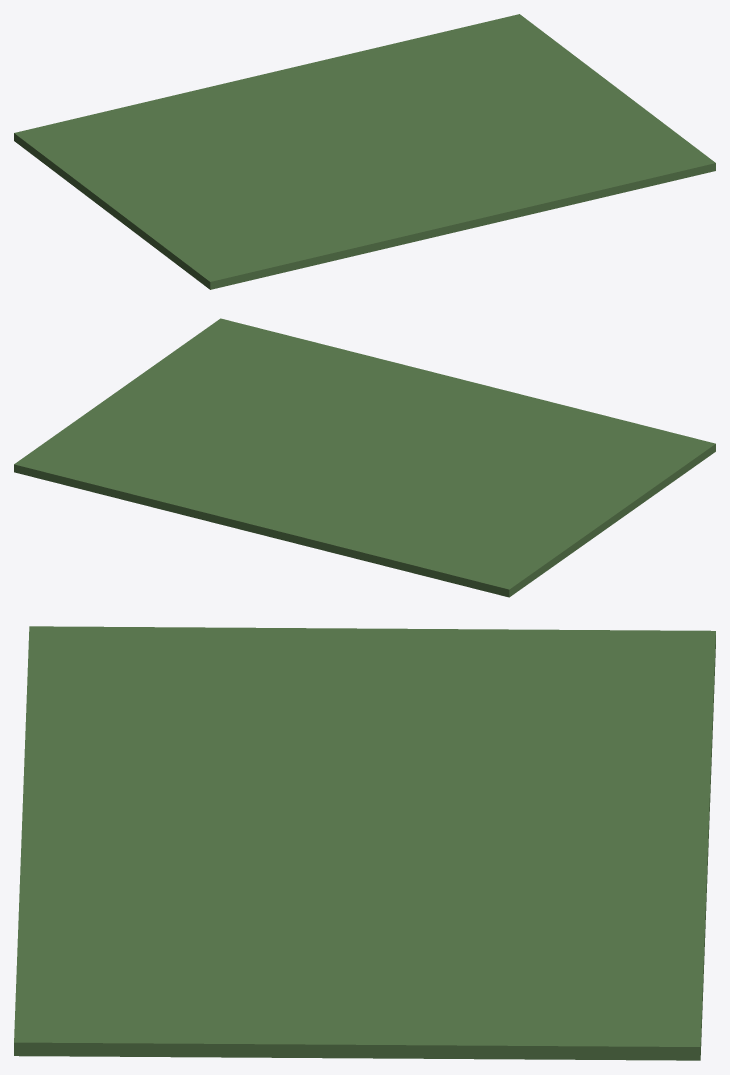
Rendered from Square_rug.fbx.
3 views of the same model, one above another, from view 1: azimuth 30°, elevation 25°; view 2: azimuth 150°, elevation 25°; view 3: azimuth 270°, elevation 25° (orthographic). The views are drawn at different scales.
Parts seen in each view (by area): view 1: Square_Rug; view 2: Square_Rug; view 3: Square_Rug.
Part boxes in pixels (left/top/right/bottom): Square_Rug: left=14, top=14, right=715, bottom=289; Square_Rug: left=14, top=318, right=715, bottom=597; Square_Rug: left=14, top=626, right=715, bottom=1060.
Size of the model in its own units: 268 by 4.02 by 189.
